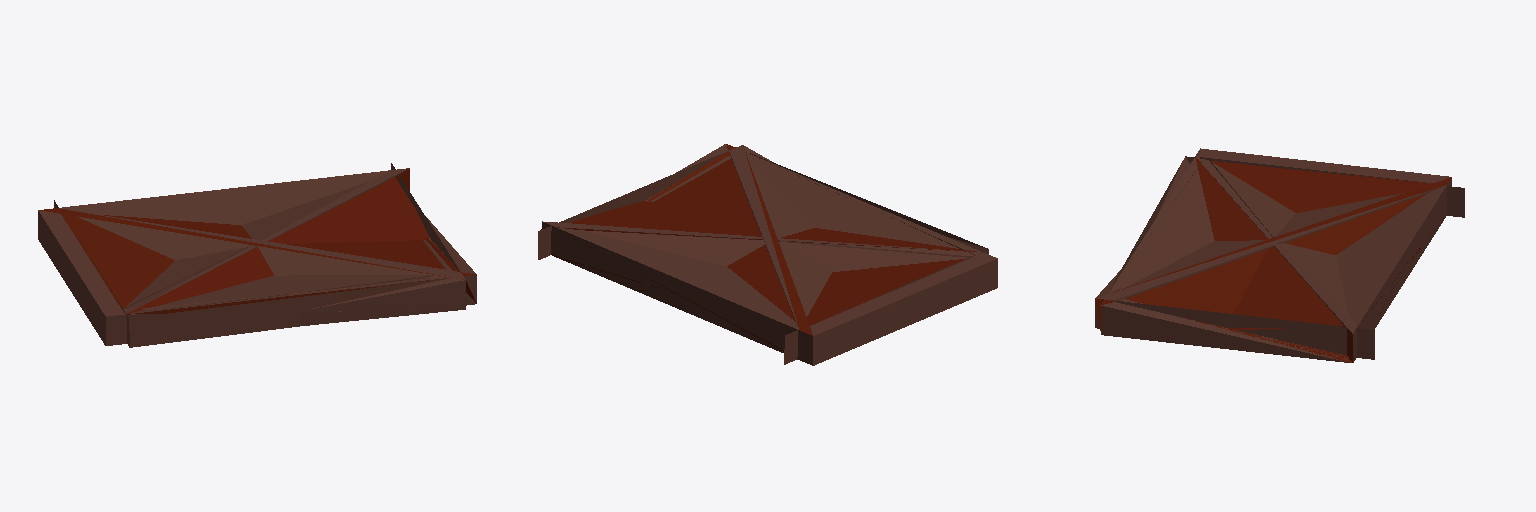
The model's file is DiningTable4.obj.
3 renders of one model, left to right at view 1: azimuth 30°, elevation 25°; view 2: azimuth 150°, elevation 25°; view 3: azimuth 270°, elevation 25°, orthographic.
Visible parts, largest first — view 1: Box002, Box001, Box003, Box006; view 2: Box003, Box002, Box001, Box006; view 3: Box001, Box002, Box003, Box006.
Part boxes in pixels (left/top/right/bottom): Box002: left=38, top=163, right=476, bottom=347; Box001: left=40, top=168, right=476, bottom=314; Box003: left=38, top=168, right=476, bottom=347; Box006: left=38, top=210, right=124, bottom=345; Box003: left=538, top=145, right=997, bottom=364; Box002: left=538, top=144, right=997, bottom=365; Box001: left=541, top=144, right=982, bottom=361; Box006: left=806, top=253, right=997, bottom=364; Box001: left=1095, top=158, right=1451, bottom=362; Box002: left=1095, top=156, right=1464, bottom=362; Box003: left=1095, top=156, right=1464, bottom=362; Box006: left=1195, top=148, right=1449, bottom=182.
Bounding box in the file's own units: 456020 × 34143 × 384303.